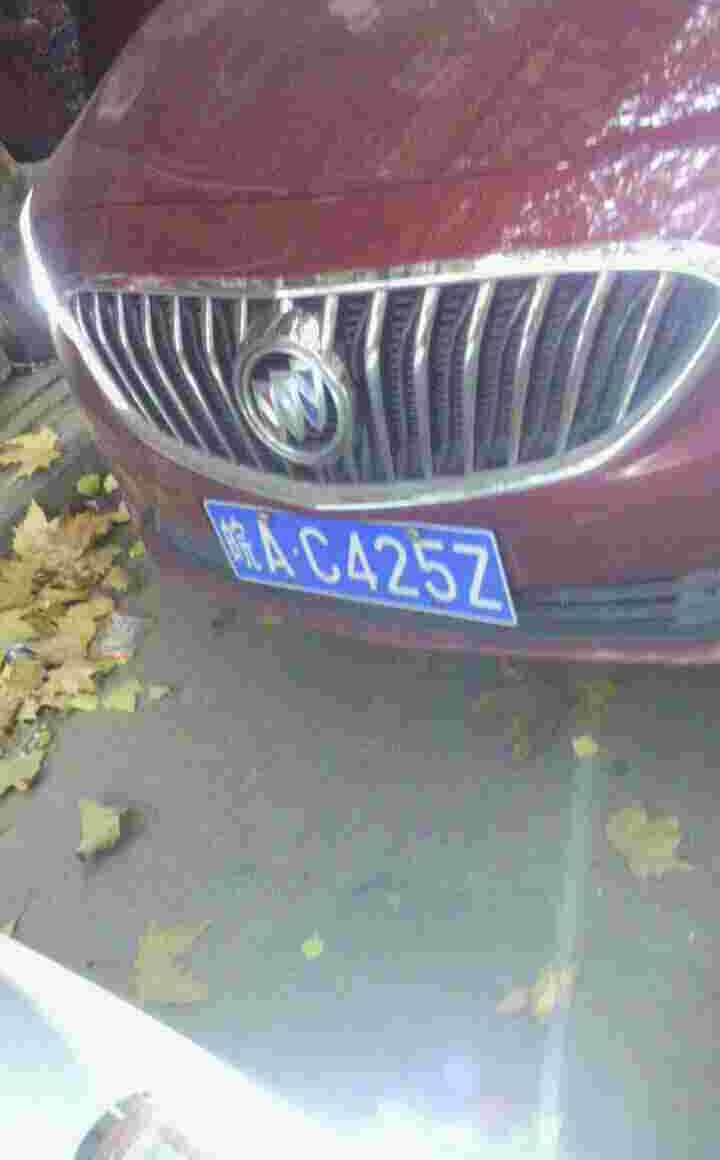license_plate: (214, 499, 499, 620)
